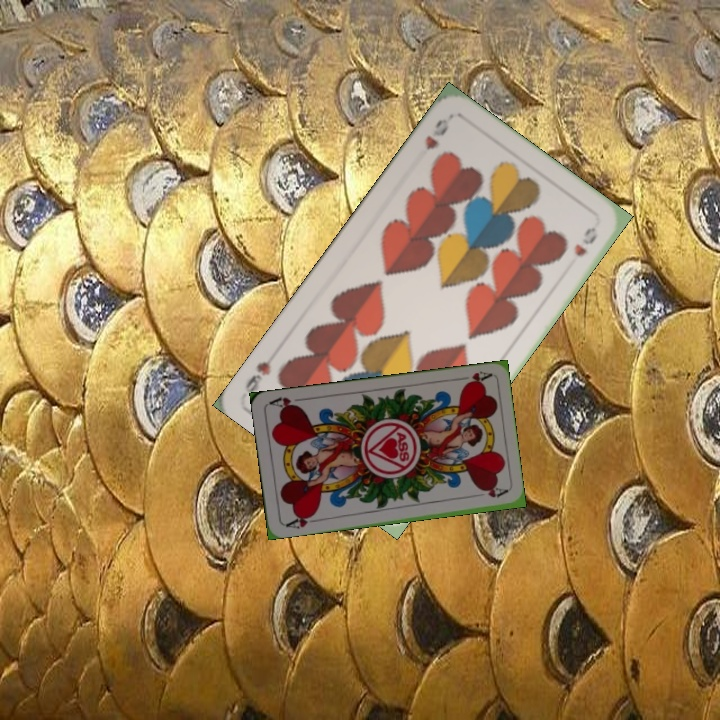H9: (421, 114, 452, 153)
HA: (282, 509, 322, 531), (452, 367, 493, 388)
